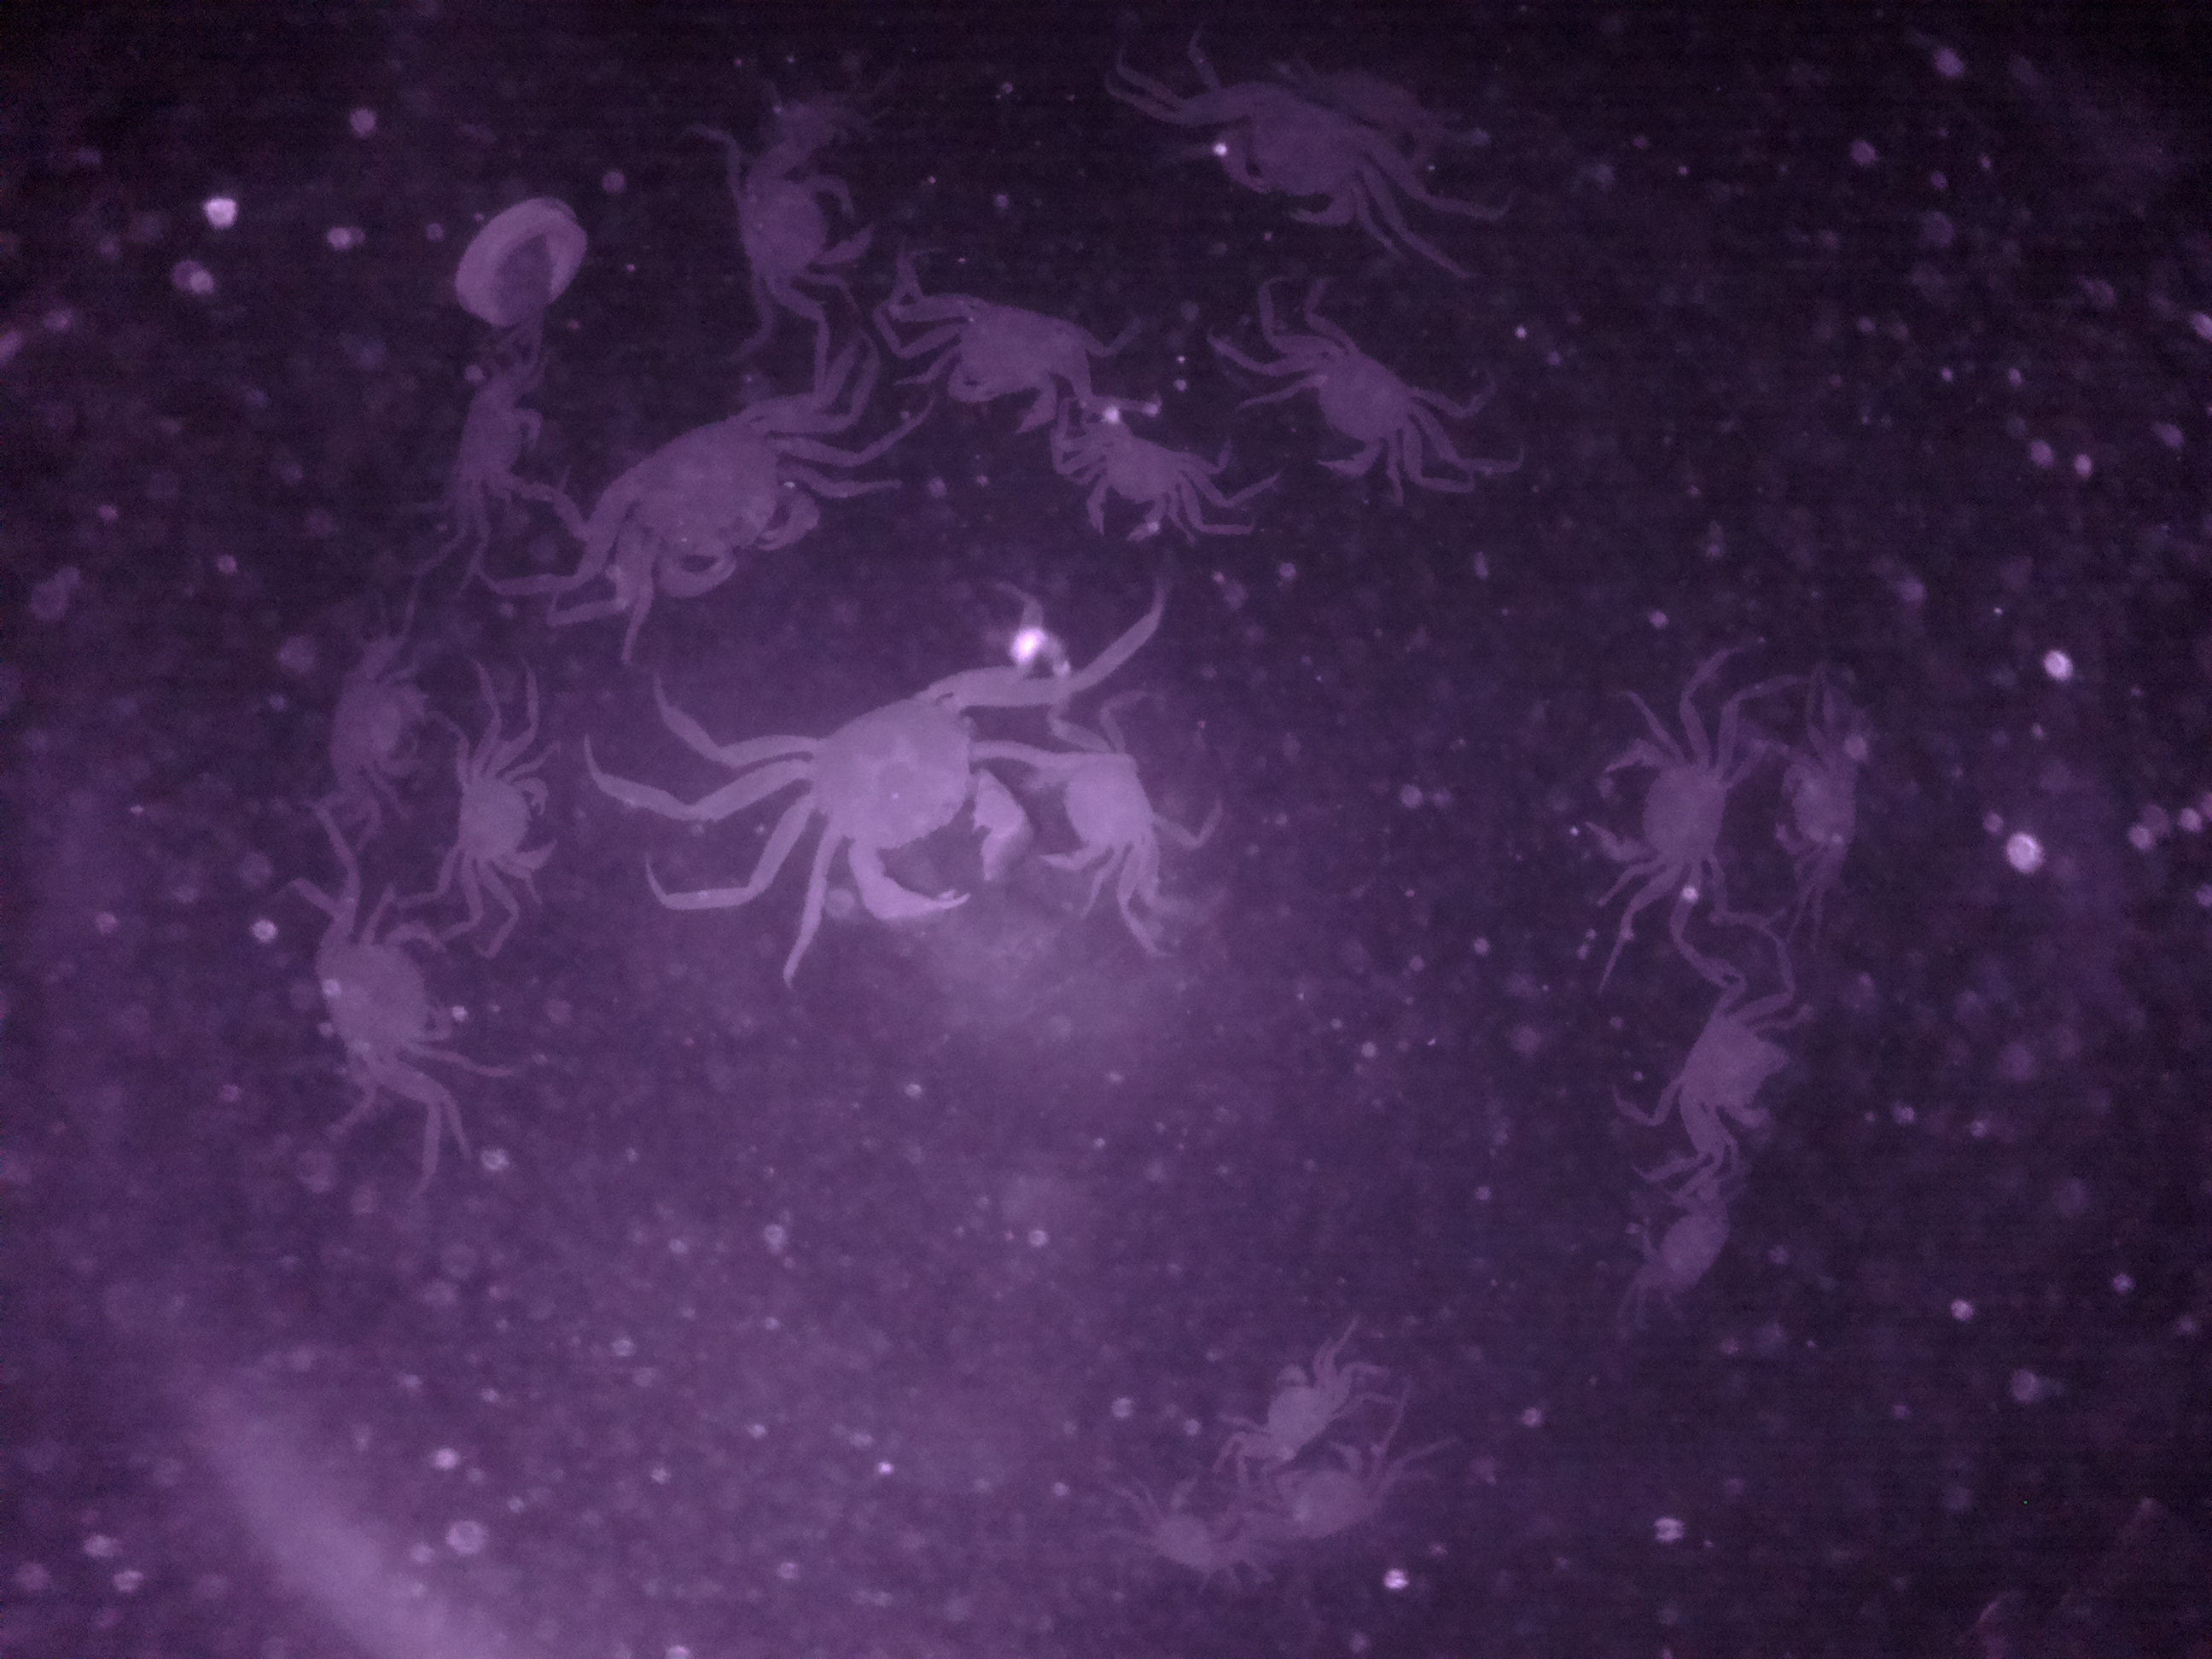Crab: (787, 666, 1035, 938), (596, 387, 831, 610), (1181, 54, 1433, 240), (1562, 711, 1759, 913), (296, 910, 482, 1094), (921, 265, 1120, 430), (1252, 319, 1446, 488), (1637, 979, 1797, 1166), (1026, 727, 1198, 897), (726, 139, 878, 308), (439, 737, 578, 899), (1066, 415, 1228, 544), (1258, 1420, 1399, 1563), (307, 645, 441, 795), (1235, 1331, 1352, 1478), (1775, 716, 1872, 884)
